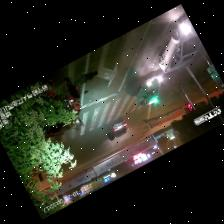person: (63, 77, 79, 102), (82, 71, 96, 80)
